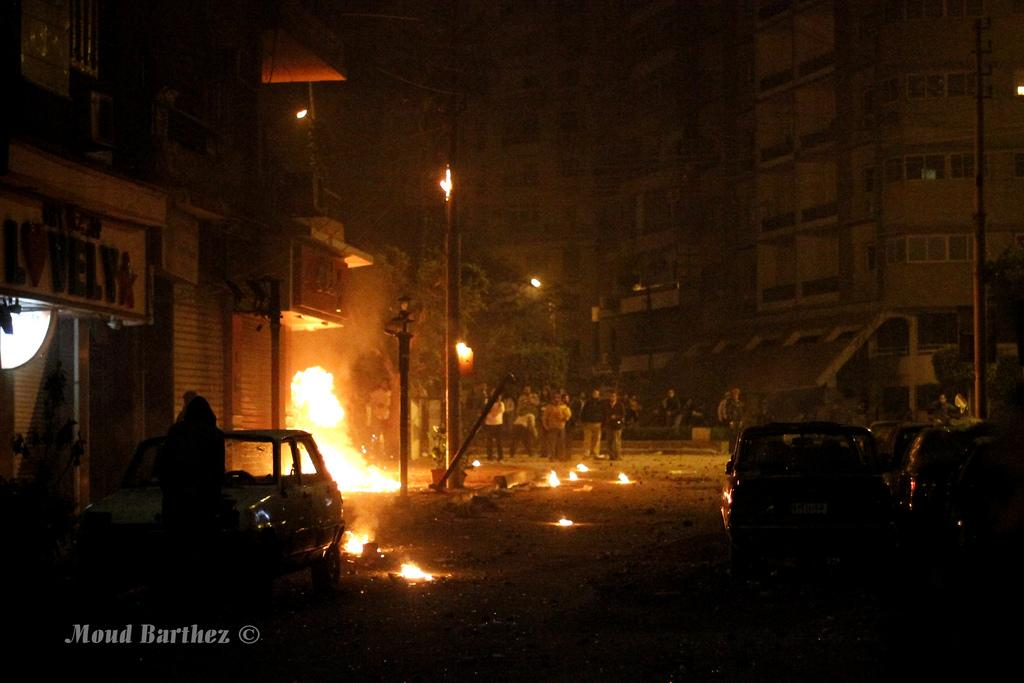fire: (287, 367, 343, 433), (332, 445, 380, 487), (397, 558, 438, 585), (342, 522, 362, 552)
